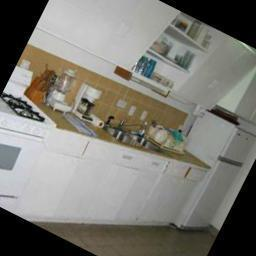Electrodomestico: (174, 121, 256, 243), (0, 84, 57, 209)
Lavaplatos: (97, 111, 163, 164)
